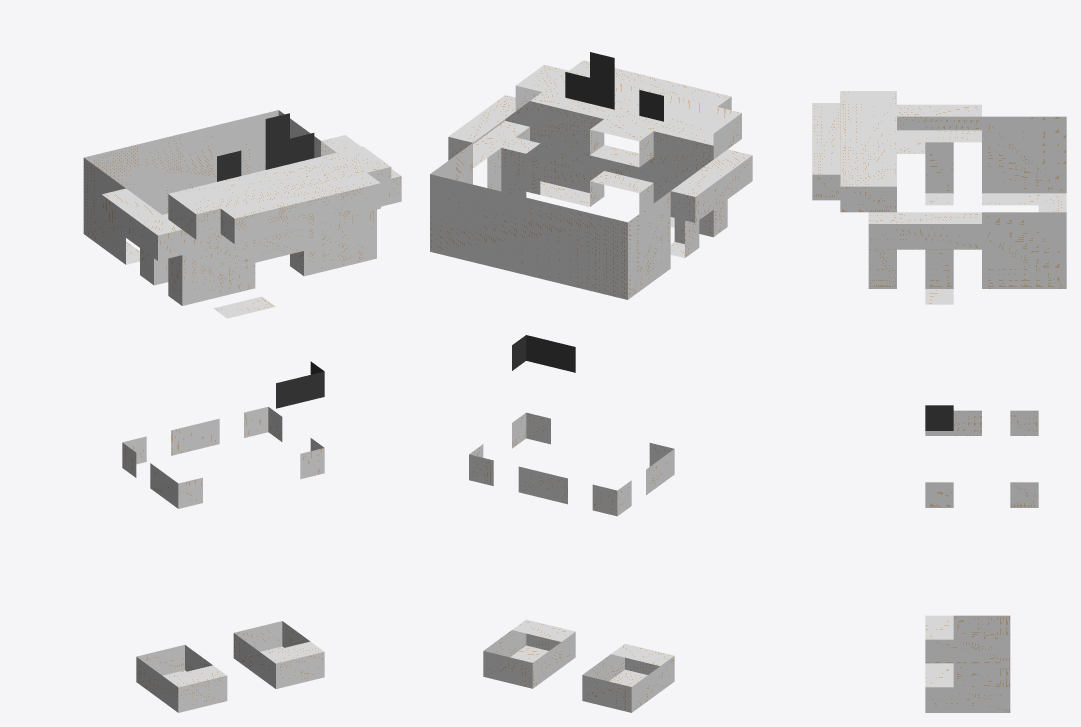
The model's file is Character-1.obj.
The picture shows the model from 3 angles, left to right: view 1: azimuth 30°, elevation 25°; view 2: azimuth 150°, elevation 25°; view 3: azimuth 270°, elevation 25°; orthographic projection.
Bounding box in the file's own units: 1.3 × 2.4 × 0.9.
1 material, 1 textured.
